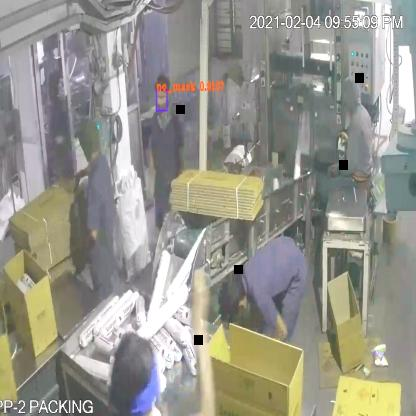no_glove: (68, 223, 103, 261), (270, 306, 295, 352), (146, 131, 160, 207), (321, 156, 342, 198)
